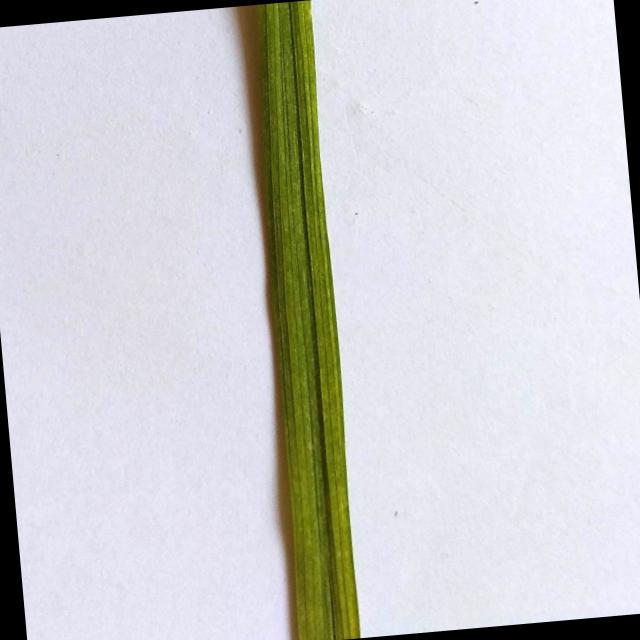Rice_Healthy: (257, 0, 360, 640)
